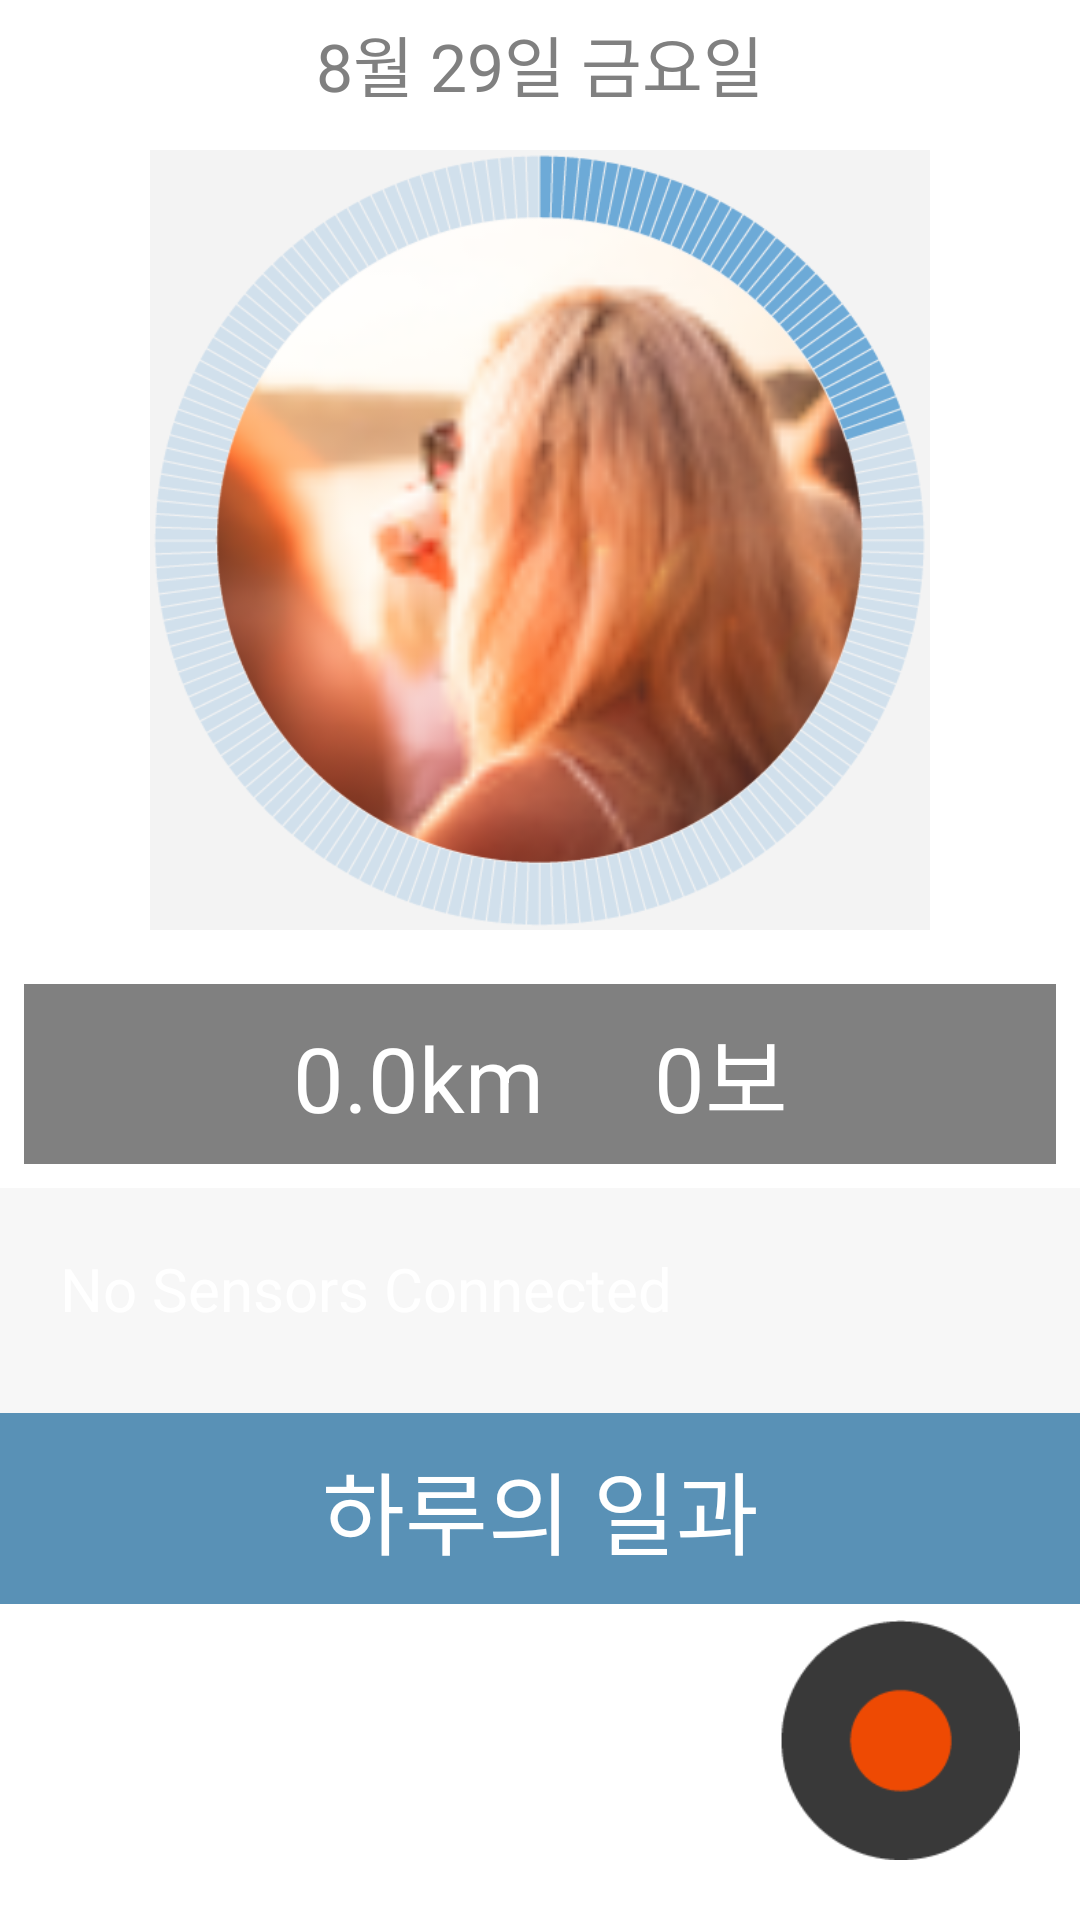

Locate icon controls on the screen. Image size 1080×1920, boxes as (x1, y1, x2, y2).
quick record: (781, 1620, 1020, 1860)
